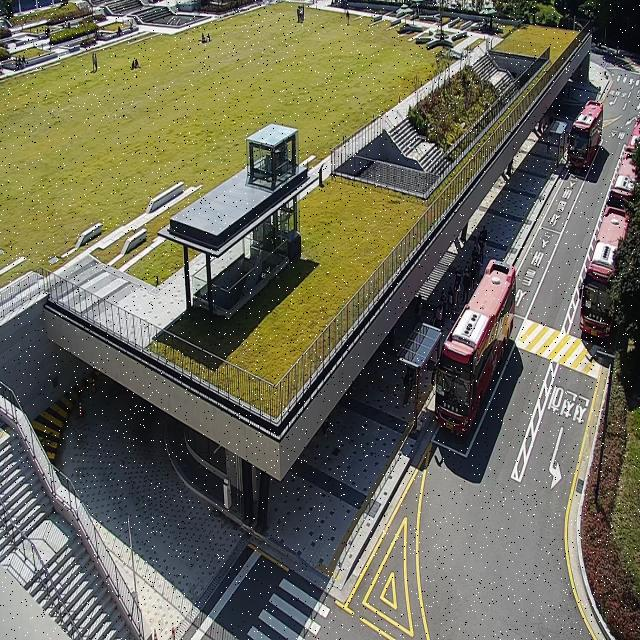queue: (404, 226, 486, 406)
